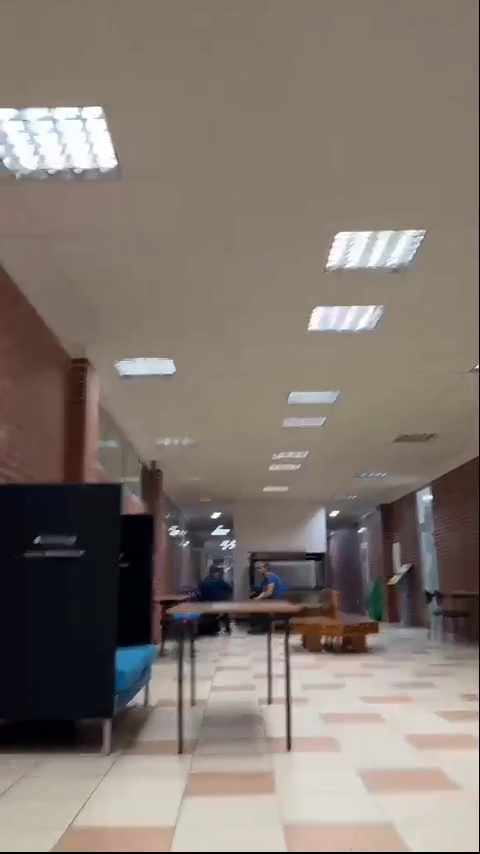drone: (169, 613, 201, 626)
no vest: (251, 563, 285, 600), (205, 567, 228, 598)
